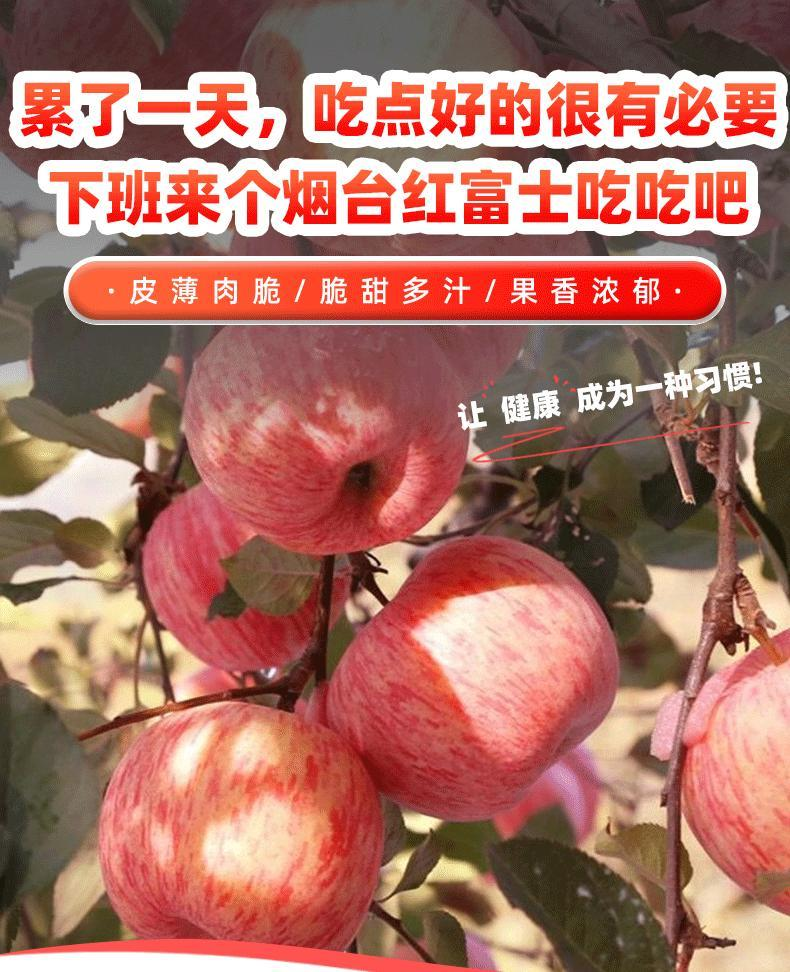apple: (325, 530, 622, 811), (81, 697, 385, 946), (181, 319, 468, 554), (139, 479, 350, 667), (677, 626, 790, 916)
